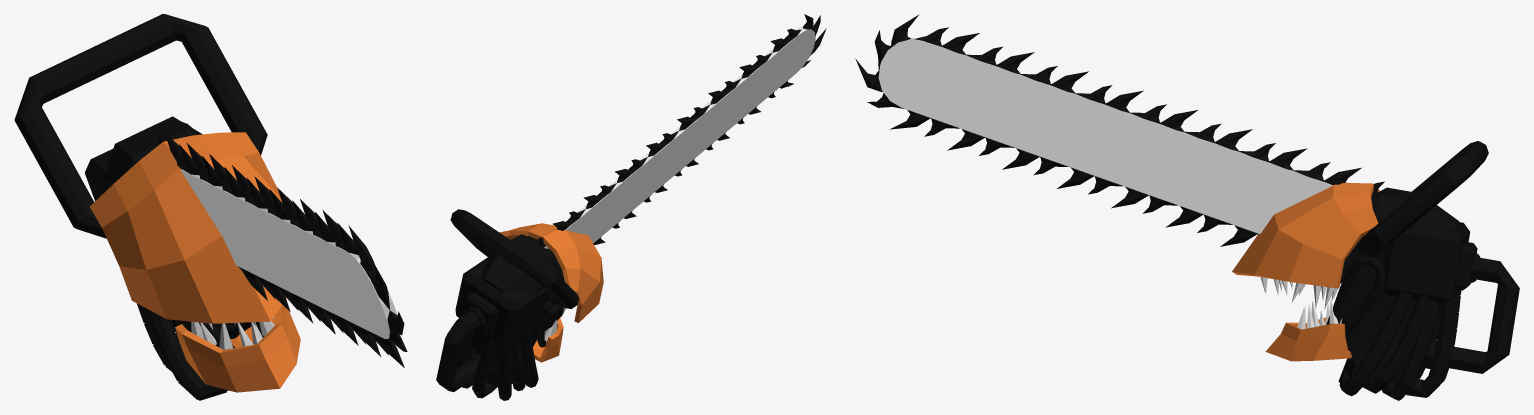
The model's file is ChainsawManHEAD.fbx.
The picture shows the model from 3 angles, left to right: view 1: azimuth 30°, elevation 25°; view 2: azimuth 150°, elevation 25°; view 3: azimuth 270°, elevation 25°; orthographic projection. The views are drawn at different scales.
Visible parts, largest first — view 1: chainsaw; view 2: chainsaw; view 3: chainsaw.
Part boxes in pixels (x1=…): chainsaw: x1=14, y1=14, x2=407, y2=400; chainsaw: x1=436, y1=14, x2=826, y2=400; chainsaw: x1=855, y1=14, x2=1519, y2=400.
Size of the model in its own units: 93.2 by 157 by 297.
